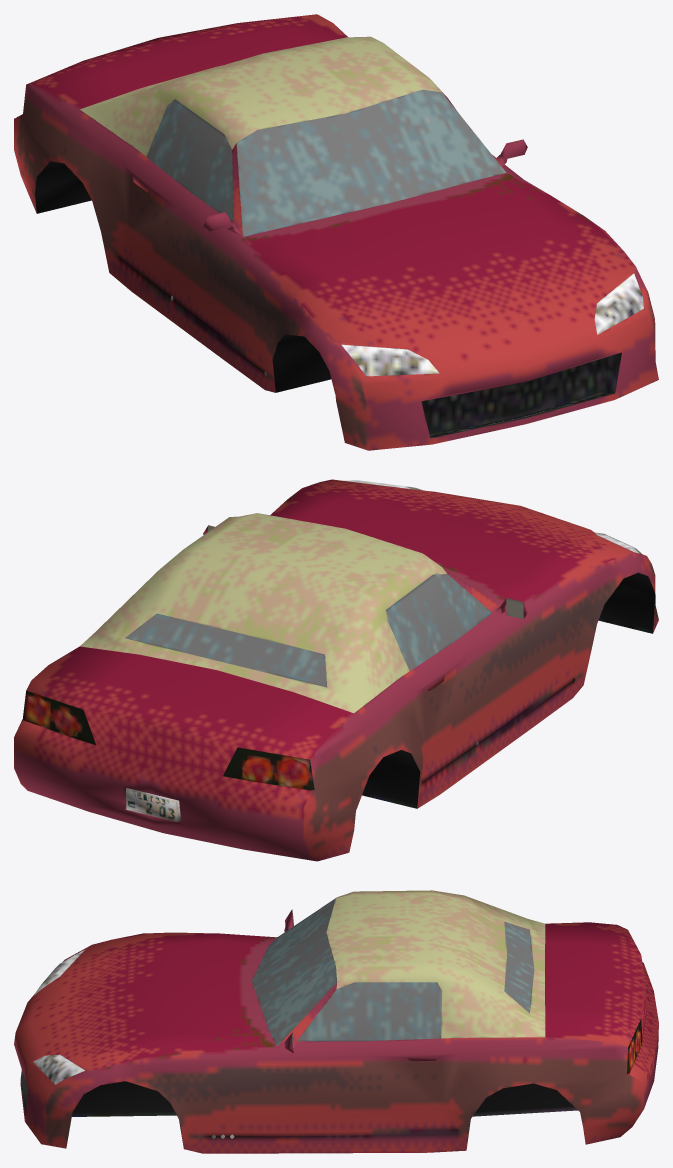
File: honda s2000.fbx
The picture shows the model from 3 angles, top to bottom: view 1: azimuth 30°, elevation 25°; view 2: azimuth 150°, elevation 25°; view 3: azimuth 270°, elevation 25°; orthographic projection. The views are drawn at different scales.
Parts seen in each view (by area): view 1: honda s2000; view 2: honda s2000; view 3: honda s2000.
Boxes of the visible parts, x1,y1,x2,y2 form: honda s2000: (14, 14, 658, 450); honda s2000: (14, 479, 658, 861); honda s2000: (14, 890, 658, 1153).
Bounding box in the file's own units: 2.95 × 1.69 × 5.98.
